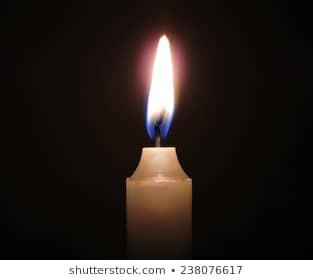fire: (144, 29, 177, 143)
